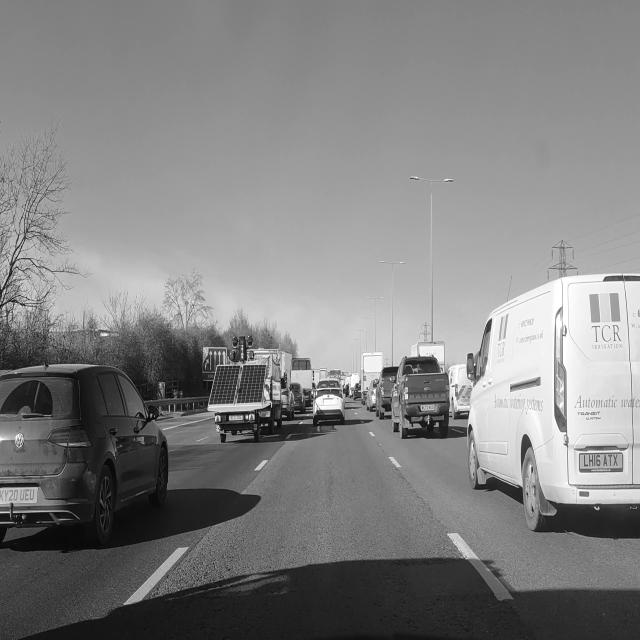car: (0, 365, 168, 544), (392, 357, 449, 439), (448, 364, 472, 419), (313, 387, 344, 424), (376, 367, 397, 419), (290, 383, 306, 413), (281, 386, 294, 419), (366, 379, 378, 411)
